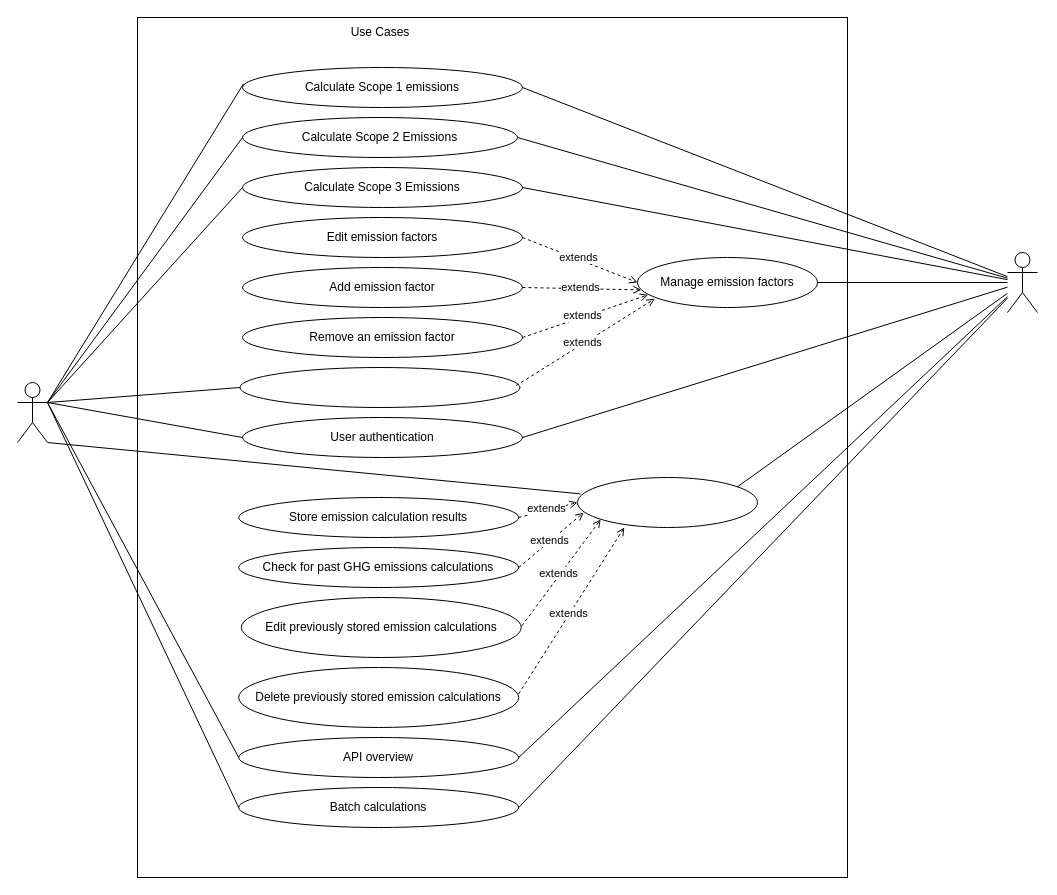
Some shapes in this 1057 by 895 pixel diagram are drawn without their labels. Here are the shapes that lost their labels. From the top down, the centre of each, then its label:
At point 1022,282: "Admin".
At point 379,387: "User wants to read emission factors".
At point 32,412: "User".
At point 667,502: "Manage stored emission calculations".
